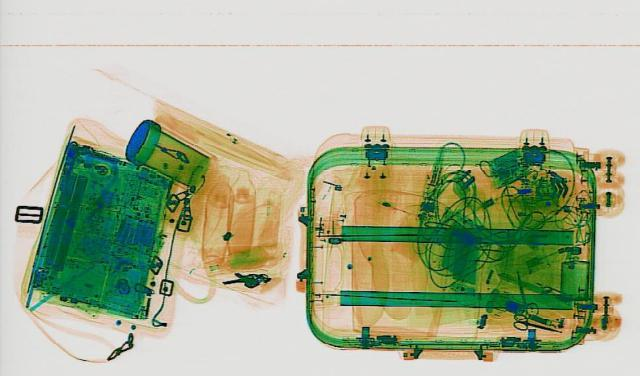Scissors: (504, 310, 568, 336)
